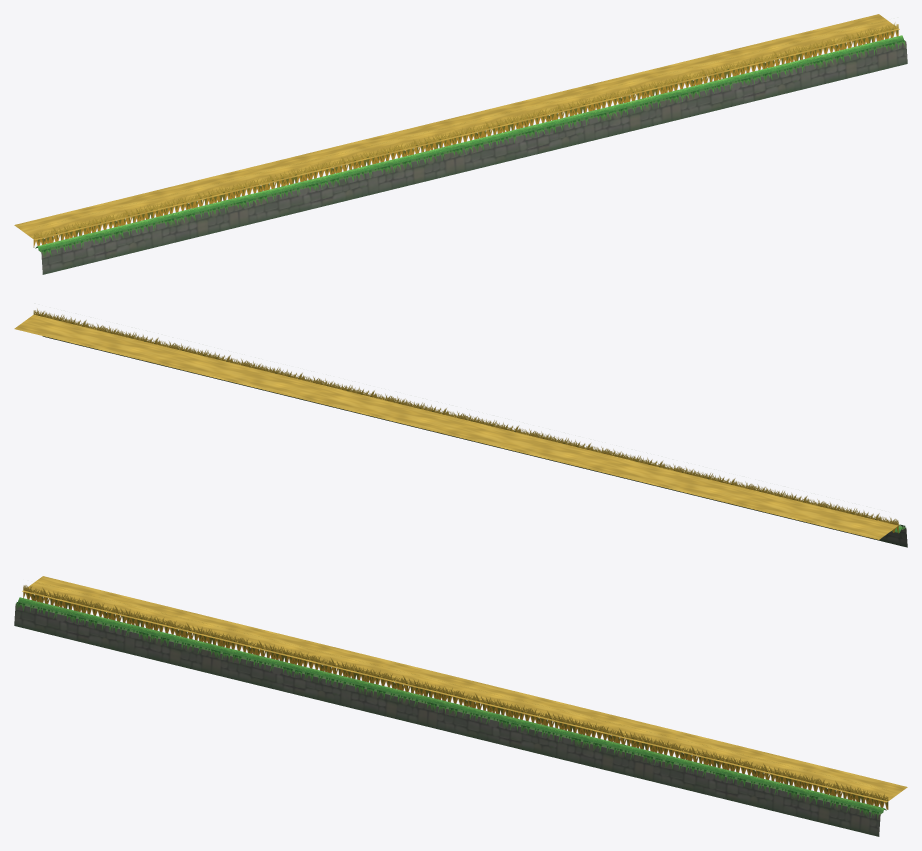
File: terrace_straight_ripe_far48.glb
The picture shows the model from 3 angles, top to bottom: view 1: azimuth 30°, elevation 25°; view 2: azimuth 150°, elevation 25°; view 3: azimuth 330°, elevation 25°; orthographic projection.
Parts seen in each view (by area): view 1: terrace_straight_ripe_far48_cards, terrace_straight_ripe_far48_wall, terrace_straight_ripe_far48_dike; view 2: terrace_straight_ripe_far48_cards, terrace_straight_ripe_far48_wall; view 3: terrace_straight_ripe_far48_cards, terrace_straight_ripe_far48_wall, terrace_straight_ripe_far48_dike.
Part boxes in pixels (box(x1,y1,x2,y2)): terrace_straight_ripe_far48_cards: box(14, 14, 905, 257); terrace_straight_ripe_far48_wall: box(38, 40, 907, 274); terrace_straight_ripe_far48_dike: box(35, 35, 903, 250); terrace_straight_ripe_far48_cards: box(14, 308, 905, 539); terrace_straight_ripe_far48_wall: box(42, 336, 907, 547); terrace_straight_ripe_far48_cards: box(16, 576, 907, 818); terrace_straight_ripe_far48_wall: box(14, 602, 883, 836); terrace_straight_ripe_far48_dike: box(18, 597, 886, 812).
Bounding box in the file's own units: 48 × 2.13 × 2.79.
3 materials, 3 textured.
